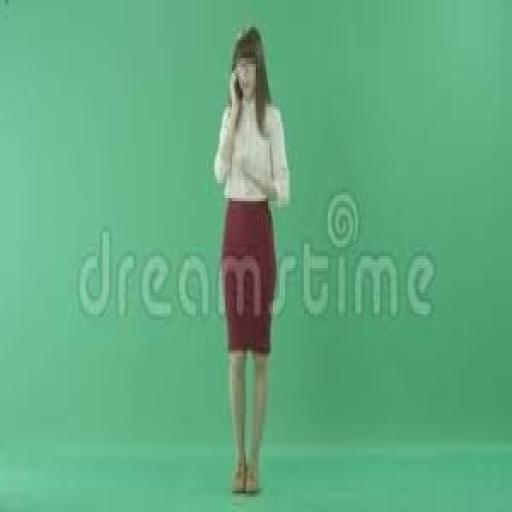calling: (210, 24, 292, 497)
